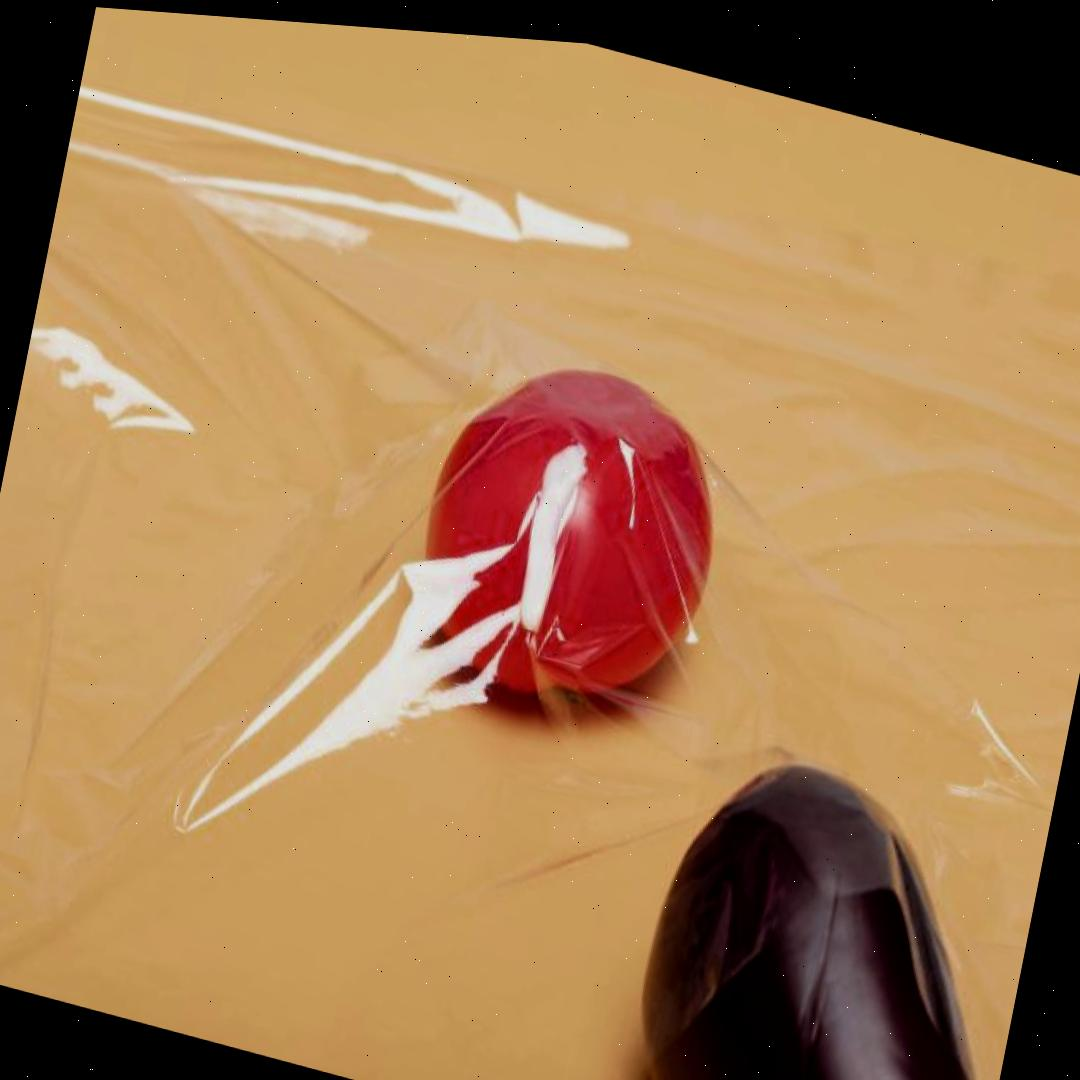matang: (398, 331, 740, 738)
